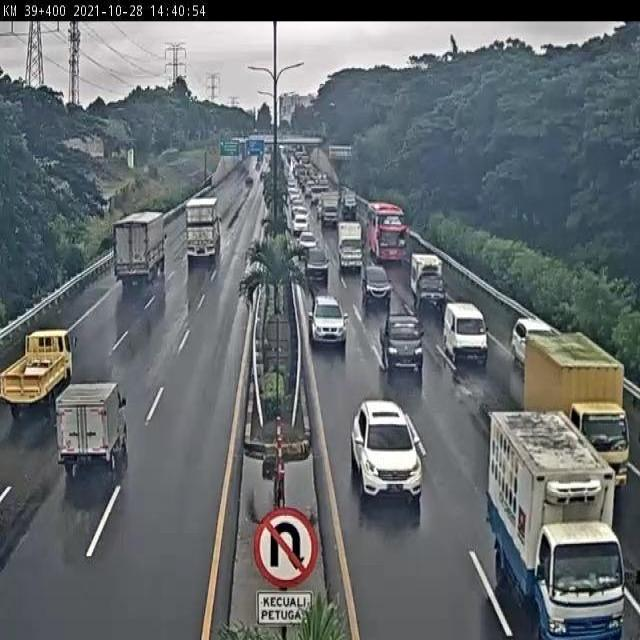big truck: (183, 196, 222, 261)
car: (349, 401, 425, 507), (442, 302, 489, 369), (511, 315, 559, 373), (380, 310, 426, 370), (309, 292, 348, 351), (359, 262, 393, 306)
small truck: (0, 326, 76, 418), (55, 380, 129, 472)
truck-m-: (486, 409, 624, 640), (525, 332, 630, 496), (112, 211, 166, 284)
truck-s-: (409, 251, 448, 312)
